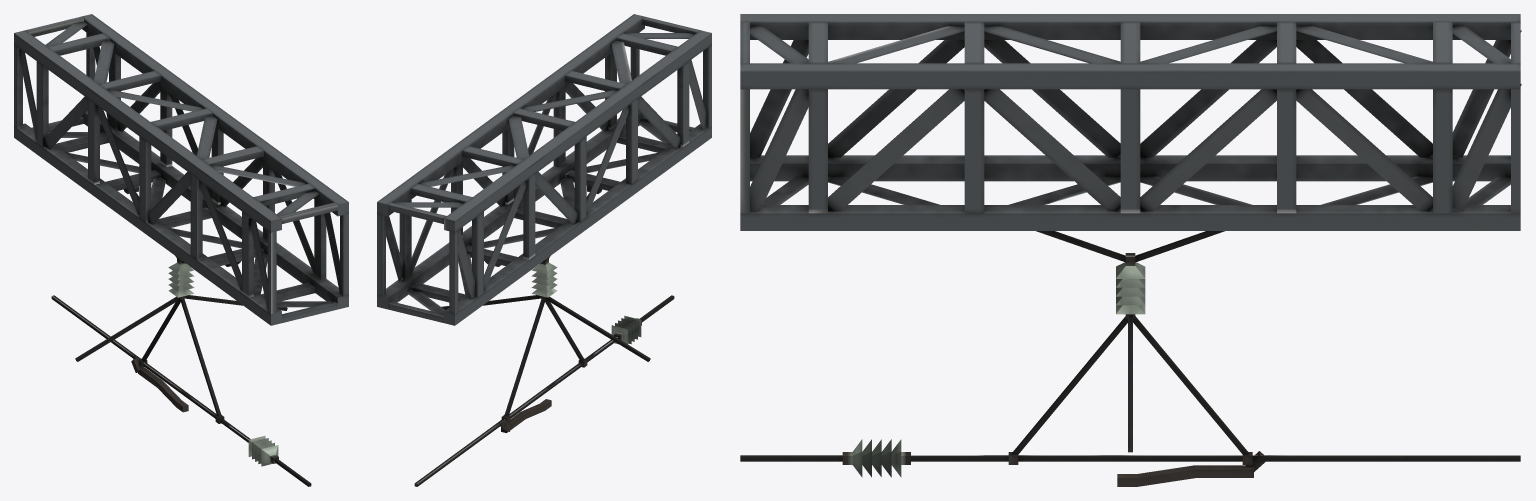
Rendered from mvp_ir_overtop.obj.
3 views of the same model, side by side, from view 1: azimuth 30°, elevation 25°; view 2: azimuth 150°, elevation 25°; view 3: azimuth 270°, elevation 25° (orthographic). The views are drawn at different scales.
Parts seen in each view (by area): view 1: RAIL_BASE_overtop, RAIL_LEFT_overtop; view 2: RAIL_BASE_overtop, RAIL_LEFT_overtop; view 3: RAIL_BASE_overtop.
Boxes of the visible parts, x1,y1,x2,y2 form: RAIL_BASE_overtop: (14,14,348,486); RAIL_LEFT_overtop: (75,296,179,361); RAIL_BASE_overtop: (377,14,711,486); RAIL_LEFT_overtop: (546,296,650,361); RAIL_BASE_overtop: (740,14,1521,486).
Size of the model in its own units: 2.37 by 3.12 by 5.01.
Materials: 1 (1 with a texture image).
